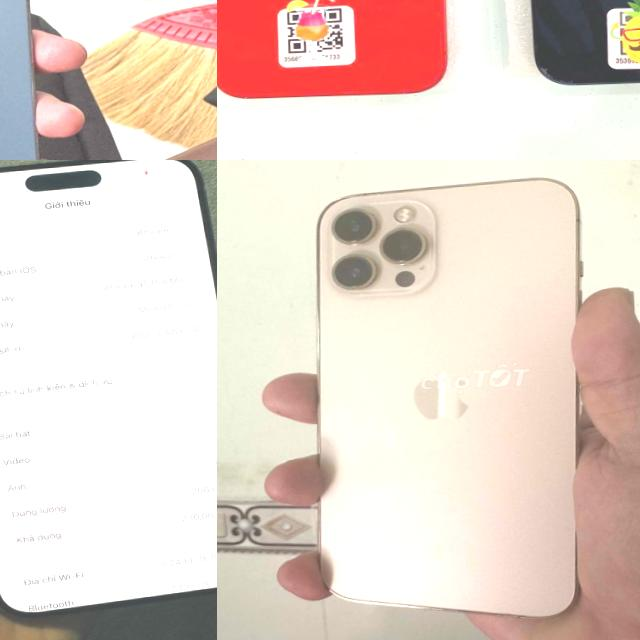gen_12_13: (302, 172, 604, 630), (0, 0, 74, 160)
gen_14: (217, 0, 463, 111)
gen_15: (0, 160, 217, 621)
